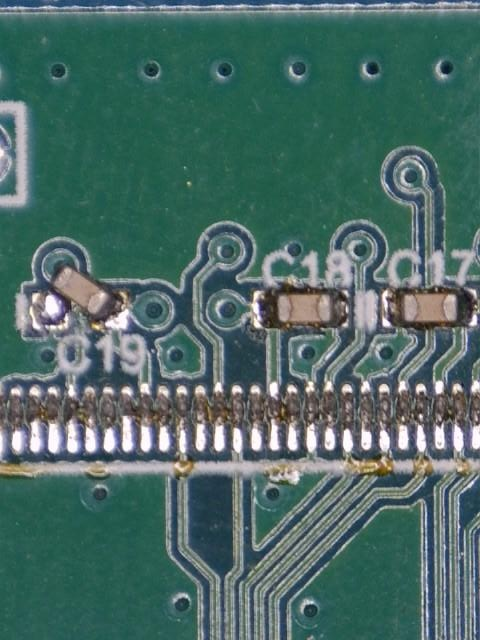pcb_defect: (32, 264, 129, 330)
